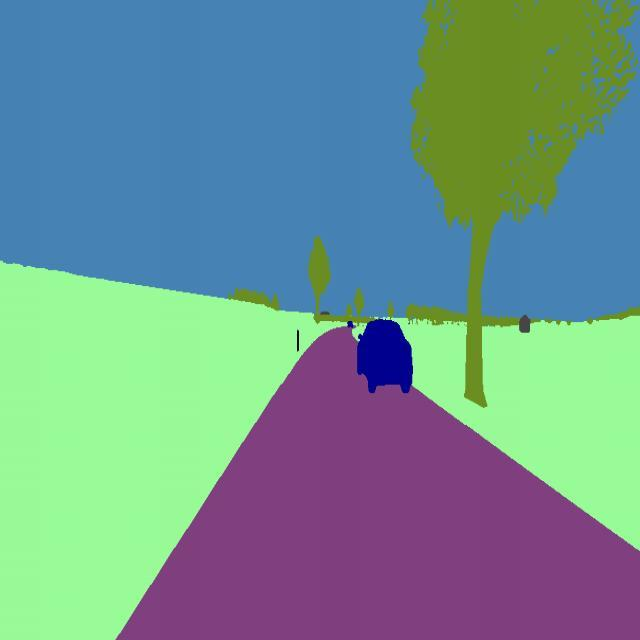safe: (354, 316, 416, 398)
